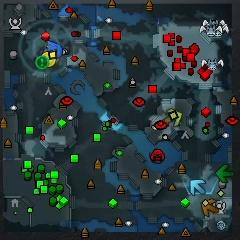Other: (36, 55, 49, 69)
p1: (47, 40, 64, 57)
p4: (41, 51, 56, 68)
x2: (165, 109, 182, 127)
x3: (190, 179, 206, 196)
x4: (216, 164, 234, 182)
x5: (201, 198, 219, 216)
